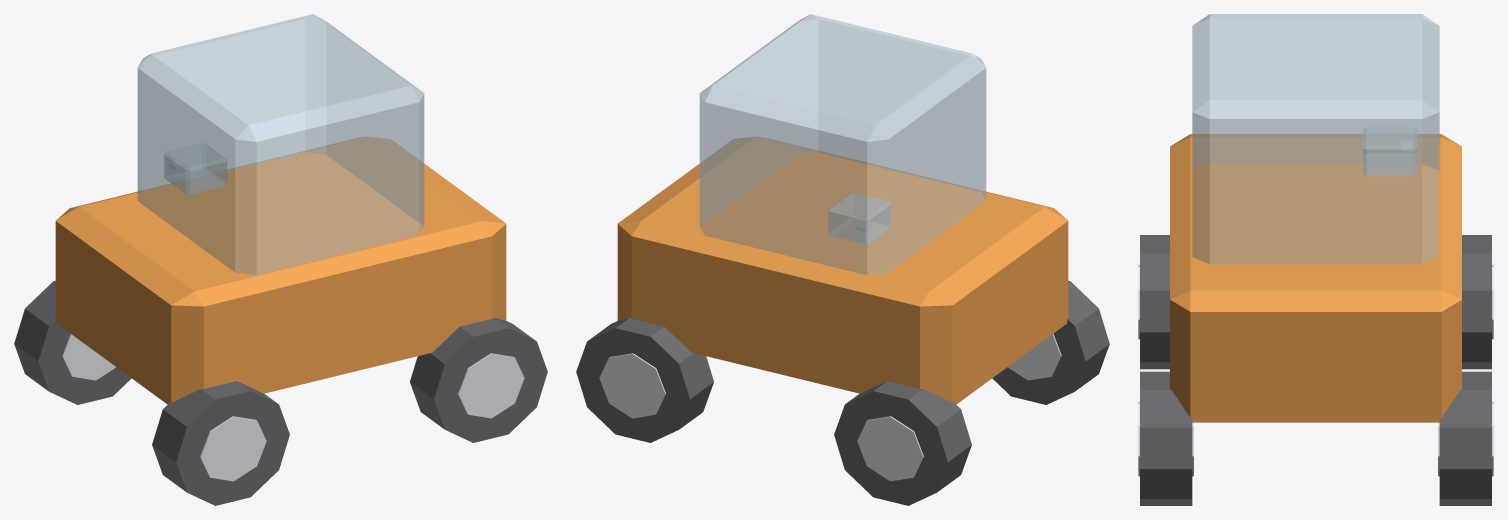
File: b07_towable_cherry_picker.glb
3 views of the same model, side by side, from view 1: azimuth 30°, elevation 25°; view 2: azimuth 150°, elevation 25°; view 3: azimuth 270°, elevation 25° (orthographic). The views are drawn at different scales.
Parts seen in each view (by area): view 1: b07_towable_cherry_picker; view 2: b07_towable_cherry_picker; view 3: b07_towable_cherry_picker.
Part boxes in pixels (left/top/right/bottom): b07_towable_cherry_picker: left=14, top=14, right=547, bottom=505; b07_towable_cherry_picker: left=576, top=14, right=1109, bottom=505; b07_towable_cherry_picker: left=1138, top=14, right=1493, bottom=505.
Size of the model in its own units: 4.15 by 3.64 by 3.16.
